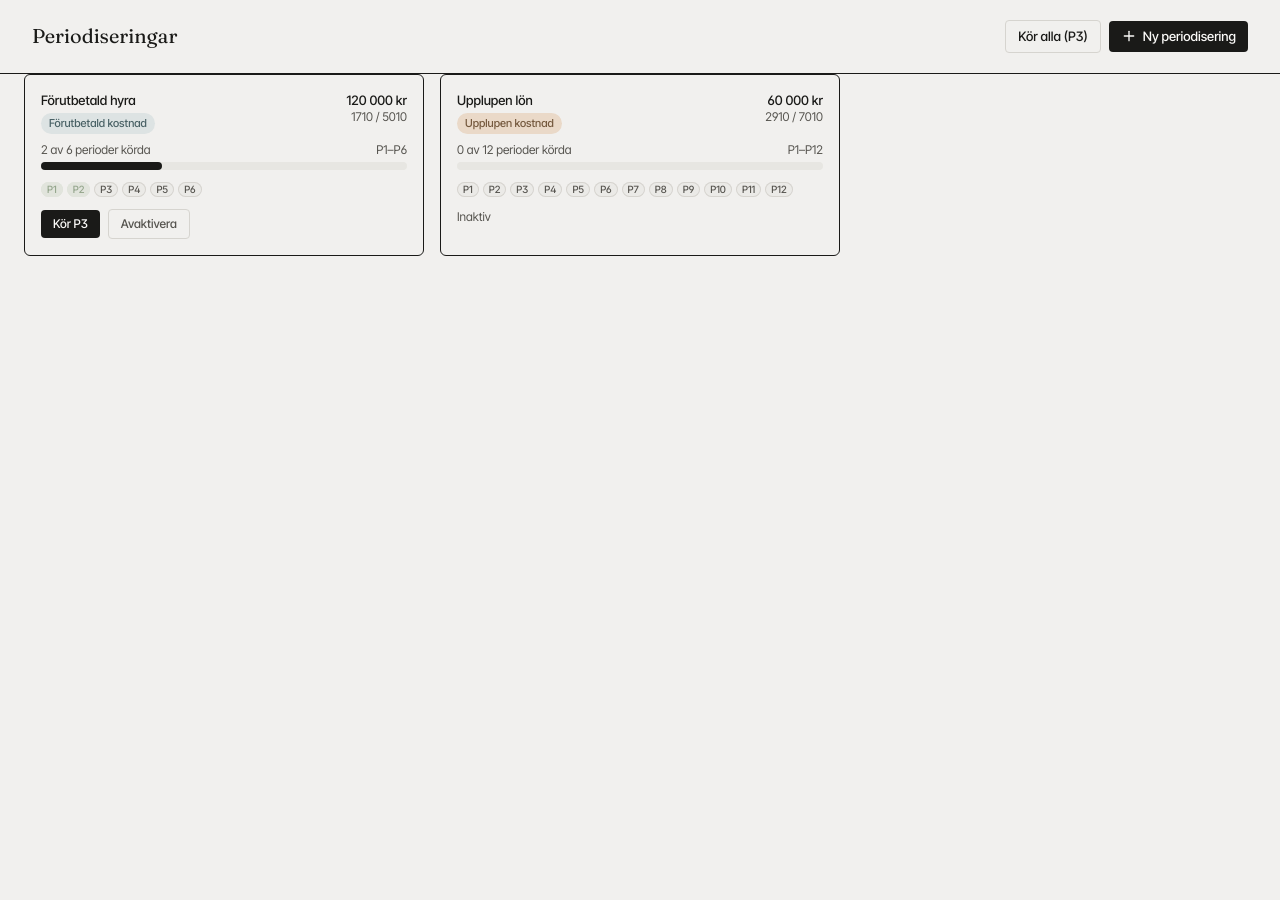
Test case: PageAccruals › R6: "Ny periodisering" button opens create dialog
What coordinates should you click on to do the following:
click the button "Ny periodisering"
I would click on:
 (1178, 36)
Its box is [1109, 21, 1248, 52].
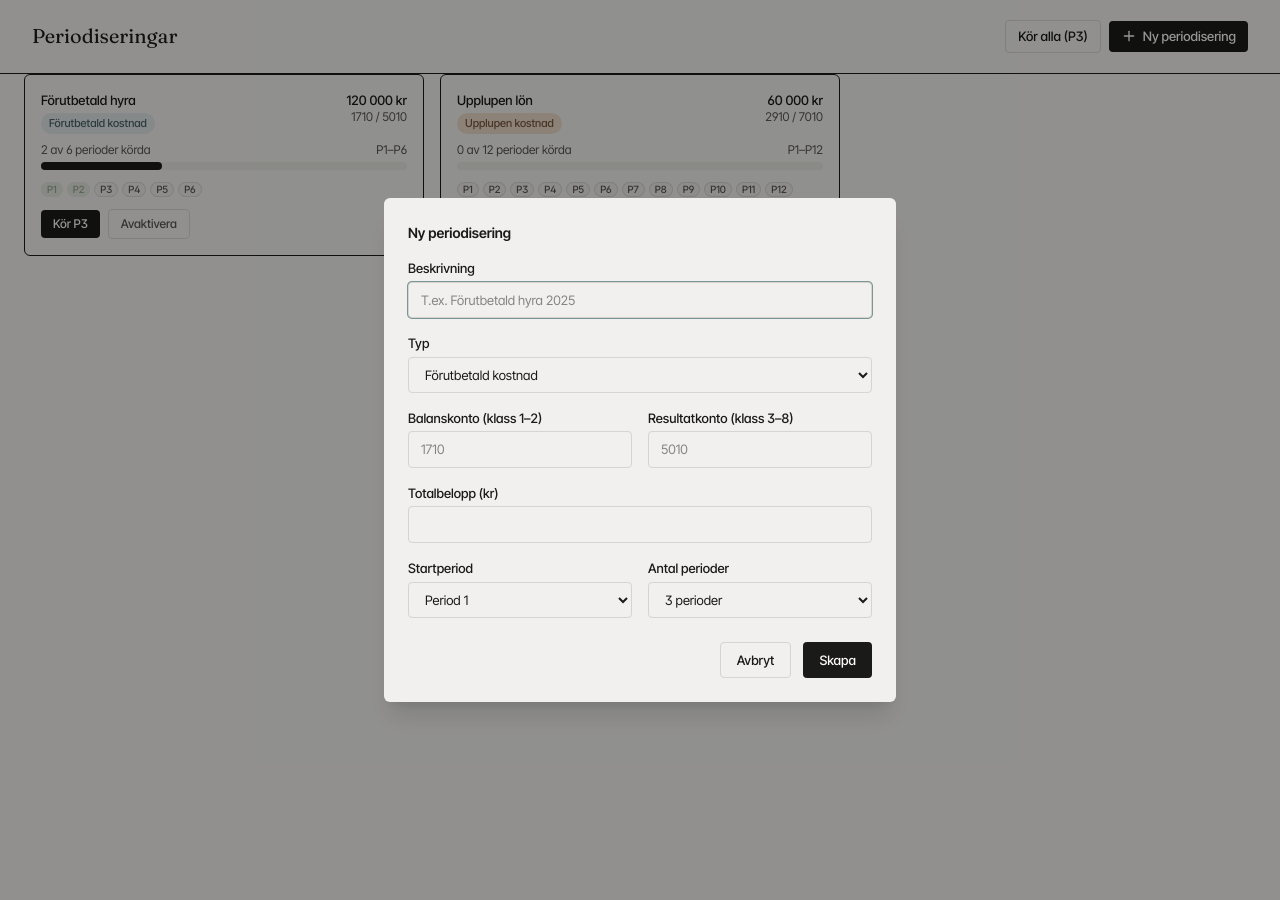
Check: the dialog is shown, box [384, 198, 896, 702]
Check: the text "Beskrivning" is shown, box [408, 260, 475, 276]
